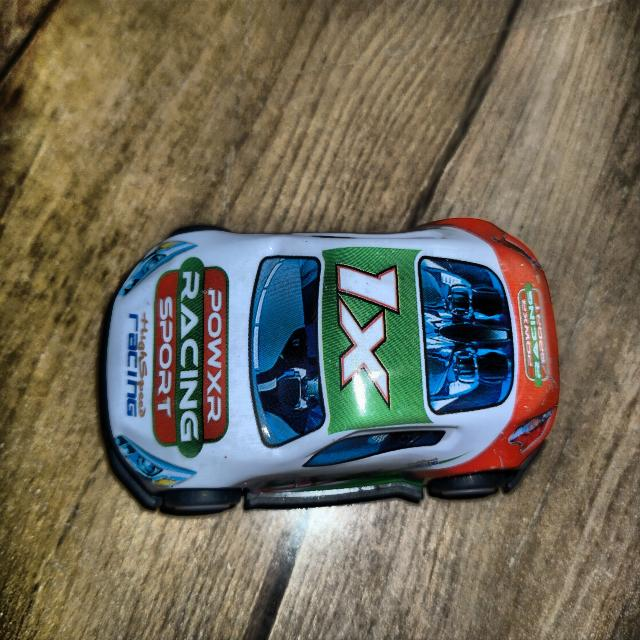Car: (102, 219, 559, 511)
